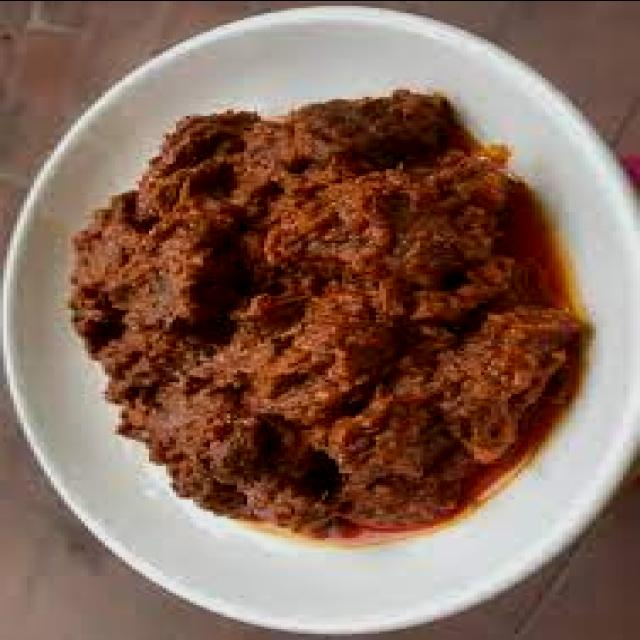rendang: (68, 84, 599, 549)
